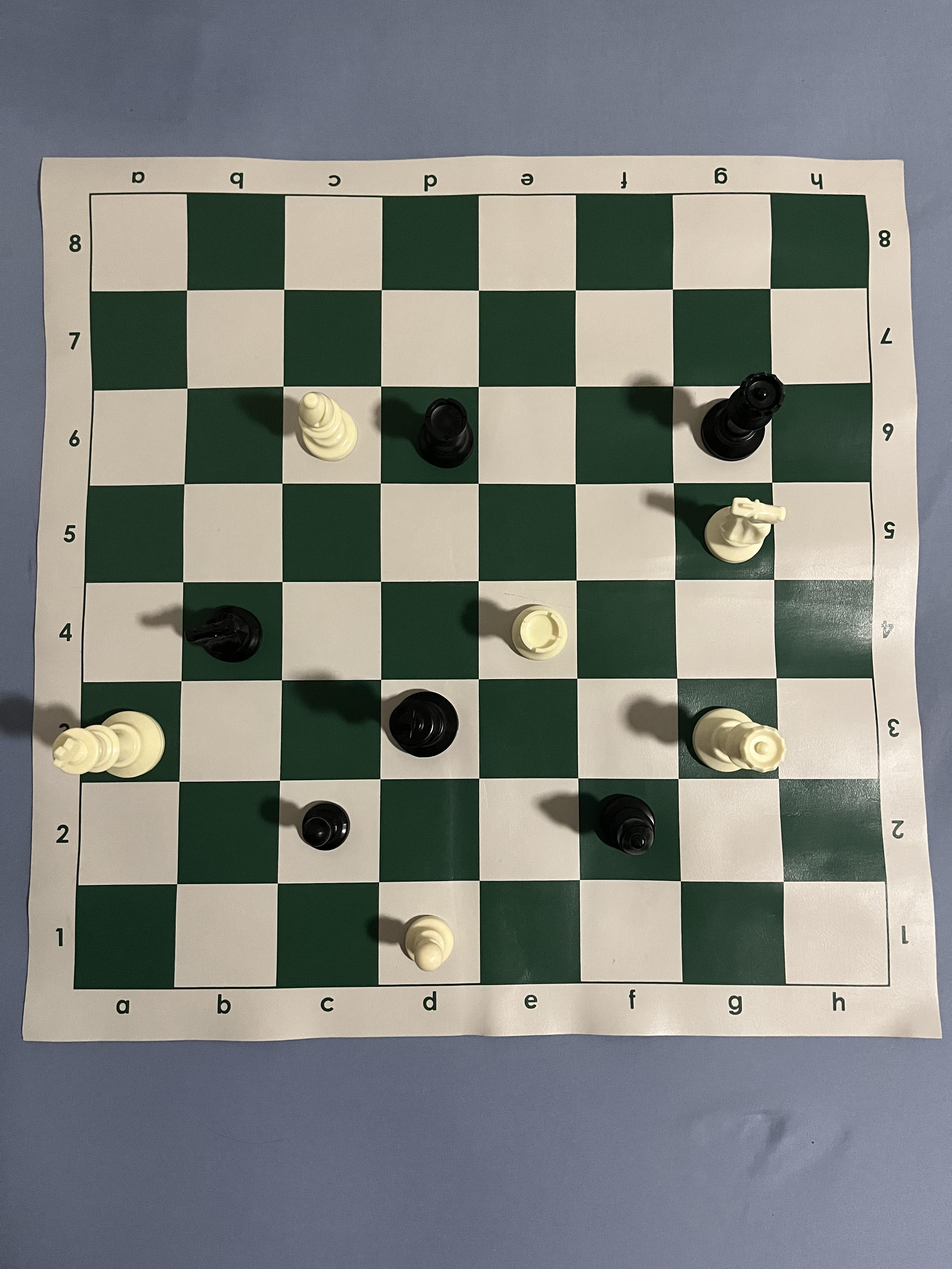black_bishop: (597, 792, 656, 856)
black_king: (388, 689, 459, 759)
black_knight: (184, 605, 263, 665)
black_pawn: (299, 800, 350, 851)
black_queen: (701, 372, 786, 462)
black_rook: (416, 397, 476, 470)
white_bishop: (298, 391, 360, 462)
white_king: (52, 709, 166, 780)
white_knight: (705, 498, 786, 565)
white_pawn: (403, 915, 455, 972)
white_queen: (690, 706, 788, 775)
white_rook: (510, 604, 570, 661)
